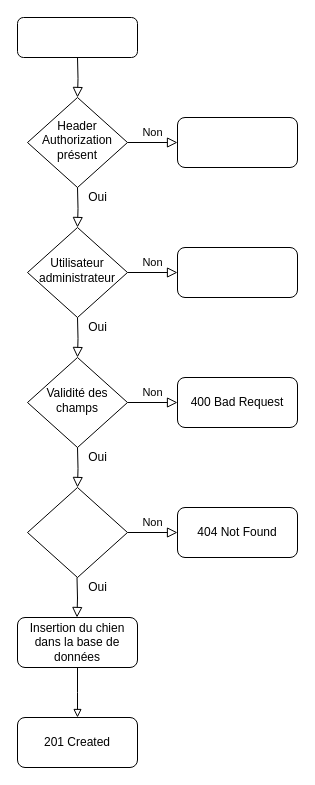
Image size: 315x785. Some labels were removed from this diagram. The shapes that lost their labels are listed below. From the top down, each one's centre as x and y in pixels, then its label:
At (77,37): "POST api/v1/dogs".
At (237,142): "401 Unauthorized".
At (237,272): "403 Forbidden".
At (77,532): "Propriétaire du chien existant".
